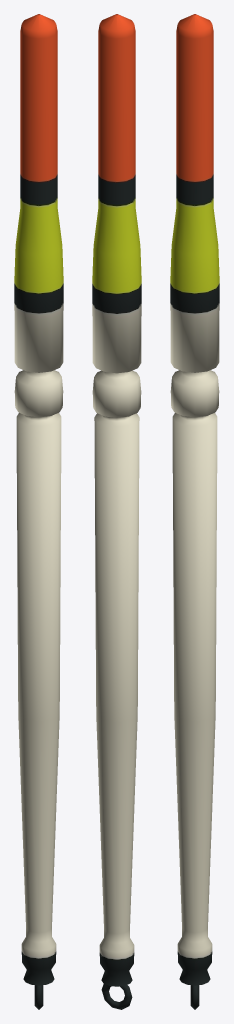
3 renders of one model, left to right at view 1: azimuth 90°, elevation 25°; view 2: azimuth 150°, elevation 25°; view 3: azimuth 270°, elevation 25°, orthographic.
Visible parts, largest first — view 1: F19_Float; view 2: F19_Float; view 3: F19_Float.
Part boxes in pixels (<box>): F19_Float: <box>14,14,63,1009</box>; F19_Float: <box>92,14,141,1009</box>; F19_Float: <box>170,14,219,1009</box>.
Size of the model in its own units: 0.0072 by 0.16 by 0.0072.
Materials: 1 (1 with a texture image).
